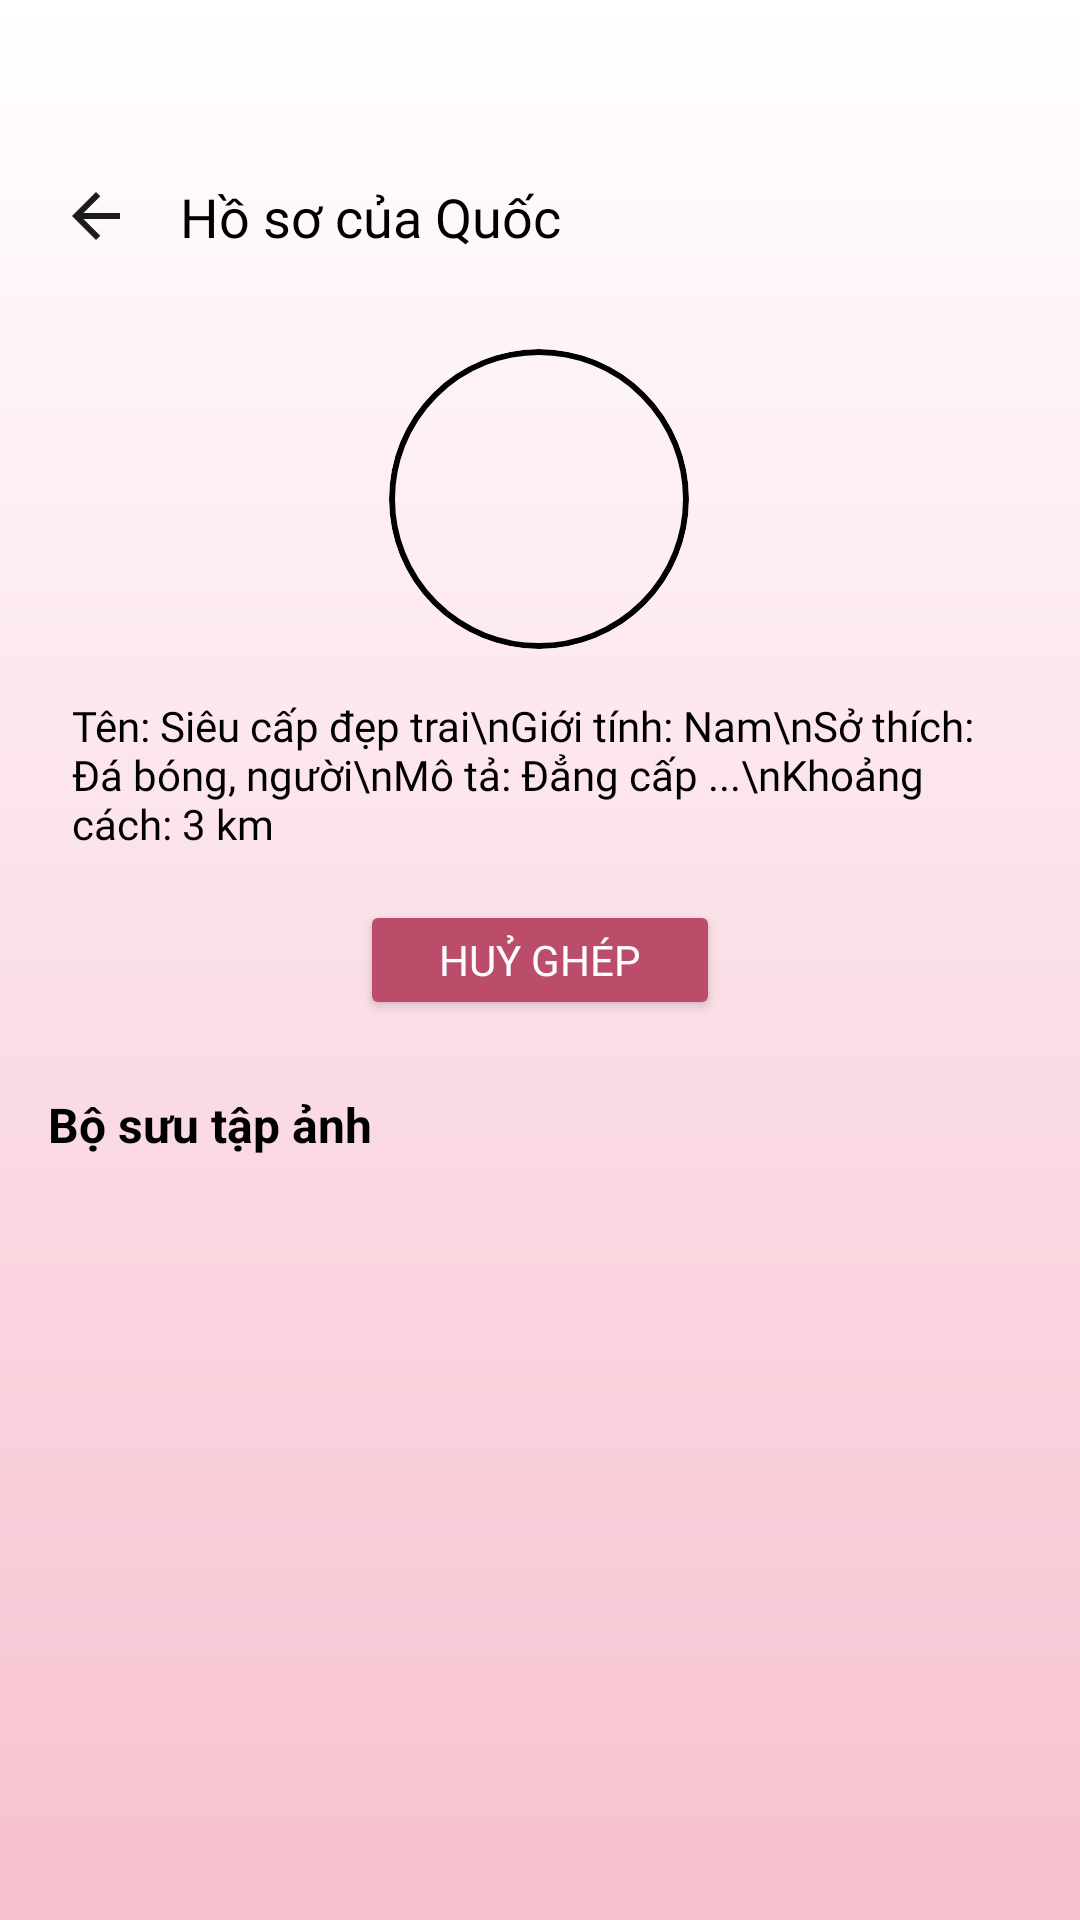

Named icons in this screenshot (1080x1920) and their bounding boxes, rect(x1, y1, x2, y2):
Back: rect(72, 192, 120, 240)
